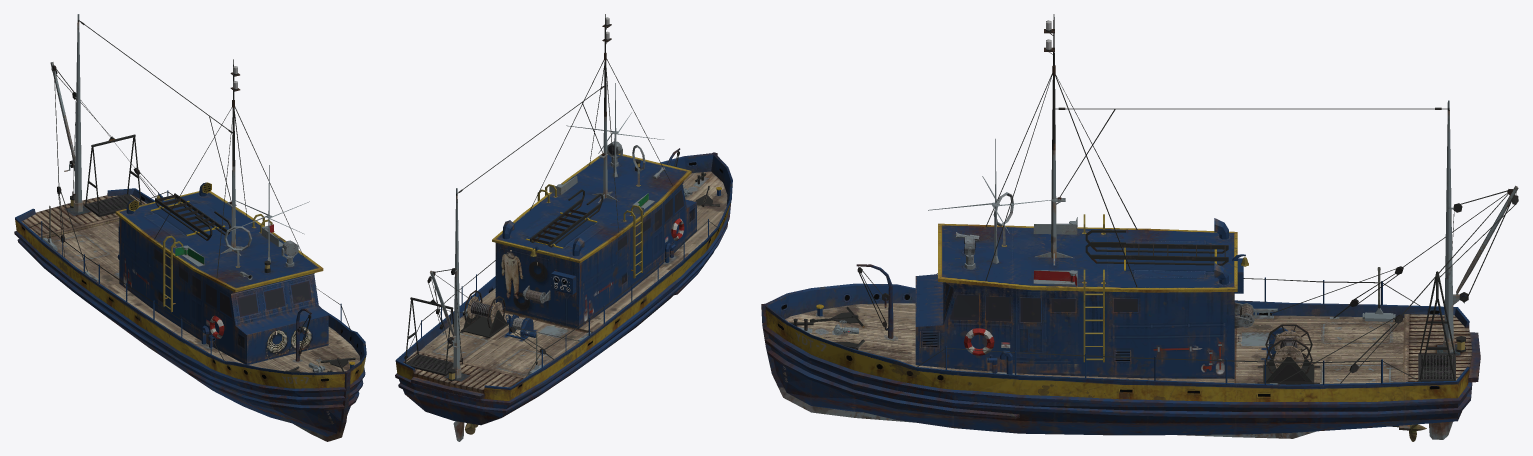
File: DivingBoat.obj
3 views of the same model, side by side, from view 1: azimuth 30°, elevation 25°; view 2: azimuth 150°, elevation 25°; view 3: azimuth 270°, elevation 25° (orthographic). The views are drawn at different scales.
Parts seen in each view (by area): view 1: LSB011Shape, AM085_TBS_AntennaShape_0009, AM047_Running_Lights_RShape_0017; view 2: LSB011Shape, AM085_TBS_AntennaShape_0009; view 3: LSB011Shape.
Part boxes in pixels (box(x1,y1,x2,y2)): LSB011Shape: box(14, 14, 366, 441); AM085_TBS_AntennaShape_0009: box(228, 165, 309, 262); AM047_Running_Lights_RShape_0017: box(175, 245, 204, 266); LSB011Shape: box(395, 14, 732, 441); AM085_TBS_AntennaShape_0009: box(566, 83, 664, 177); LSB011Shape: box(761, 14, 1518, 439).
Bounding box in the file's own units: 0.045 × 0.1039 × 0.1669.
